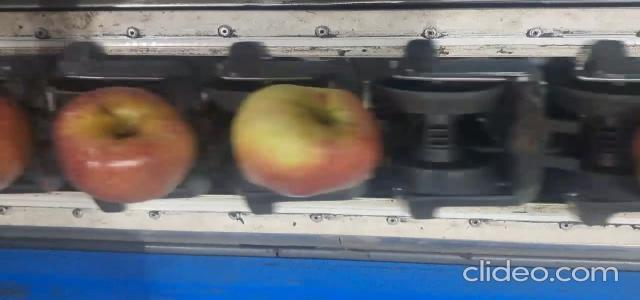apple: (231, 84, 382, 196), (54, 88, 196, 203)
